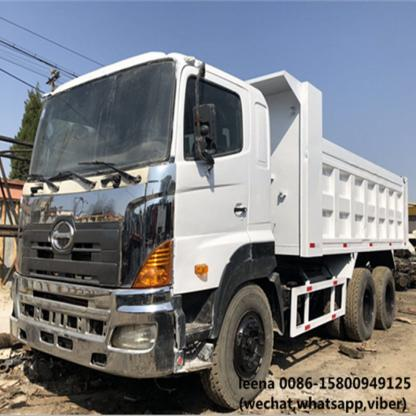dump_truck: (18, 50, 410, 402)
